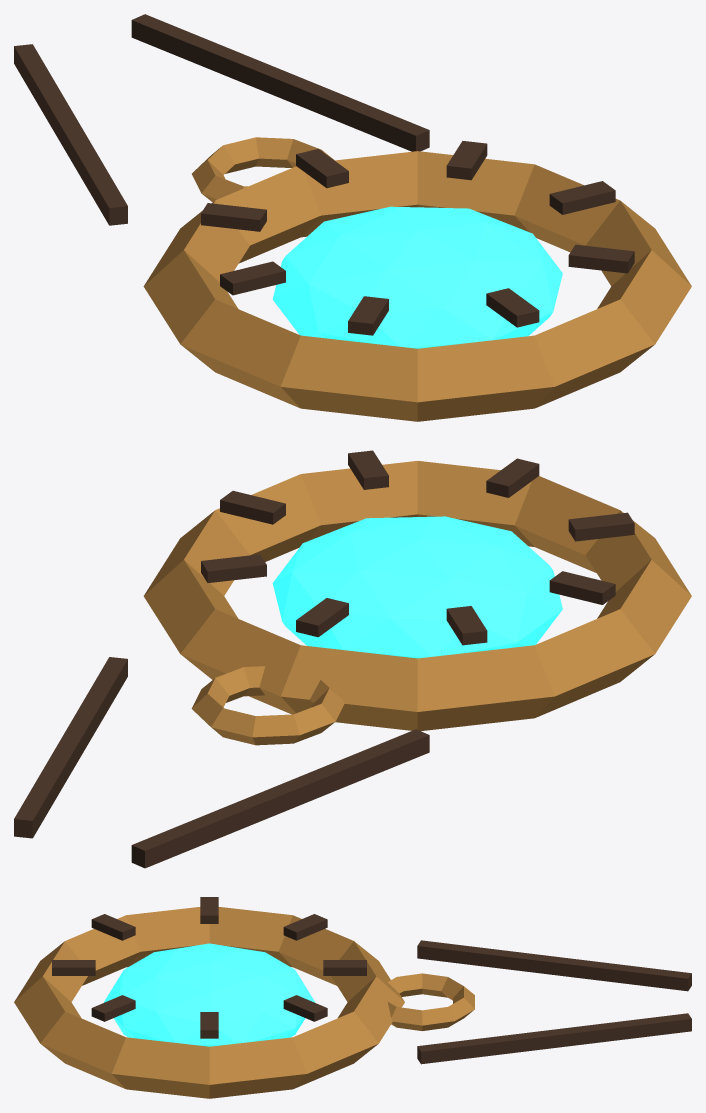
Rendered from amulet.glb.
3 renders of one model, top to bottom at view 1: azimuth 30°, elevation 25°; view 2: azimuth 150°, elevation 25°; view 3: azimuth 270°, elevation 25°, orthographic. The views are drawn at different scales.
Parts seen in each view (by area): view 1: AmuletFrame, AmuletStone, Cord.001, Cord, AmuletLoop, AmuletRune.007, AmuletRune, AmuletRune.003, AmuletRune.004, AmuletRune.006, AmuletRune.002, AmuletRune.001 (+1 smaller); view 2: AmuletFrame, AmuletStone, Cord, AmuletLoop, Cord.001, AmuletRune.005, AmuletRune.004, AmuletRune, AmuletRune.001, AmuletRune.006, AmuletRune.002, AmuletRune.003 (+1 smaller); view 3: AmuletFrame, AmuletStone, Cord, Cord.001, AmuletLoop, AmuletRune.007, AmuletRune.001, AmuletRune.005, AmuletRune.003, AmuletRune.002, AmuletRune.006, AmuletRune (+1 smaller).
Part boxes in pixels (x1,y1,x2,y2): AmuletFrame: (143,151,691,421); AmuletStone: (272,206,562,348); Cord.001: (131,14,429,151); Cord: (14,44,127,225); AmuletLoop: (192,137,334,202); AmuletRune.007: (568,244,634,273); AmuletRune: (549,181,615,214); AmuletRune.003: (201,203,266,231); AmuletRune.004: (220,261,285,295); AmuletRune.006: (486,288,539,327); AmuletRune.002: (296,149,348,188); AmuletRune.001: (446,140,487,180); AmuletFrame: (143,460,691,730); AmuletStone: (272,516,562,658); Cord: (131,729,429,868); AmuletLoop: (191,666,344,745); Cord.001: (14,657,127,838); AmuletRune.005: (568,512,634,541); AmuletRune.004: (549,571,615,604); AmuletRune: (220,490,285,524); AmuletRune.001: (201,554,266,582); AmuletRune.006: (486,458,539,497); AmuletRune.002: (296,598,348,637); AmuletRune.003: (446,606,487,645); AmuletFrame: (14,907,404,1098); AmuletStone: (104,943,315,1046); Cord: (417,940,691,991); Cord.001: (417,1013,691,1064); AmuletLoop: (387,973,474,1031); AmuletRune.007: (91,995,135,1021); AmuletRune.001: (283,995,327,1021); AmuletRune.005: (91,914,135,940); AmuletRune.003: (283,914,327,940); AmuletRune.002: (323,960,366,975); AmuletRune.006: (52,960,95,975); AmuletRune: (200,1012,218,1038).
Size of the model in its own units: 3.4 by 0.76 by 5.89.
